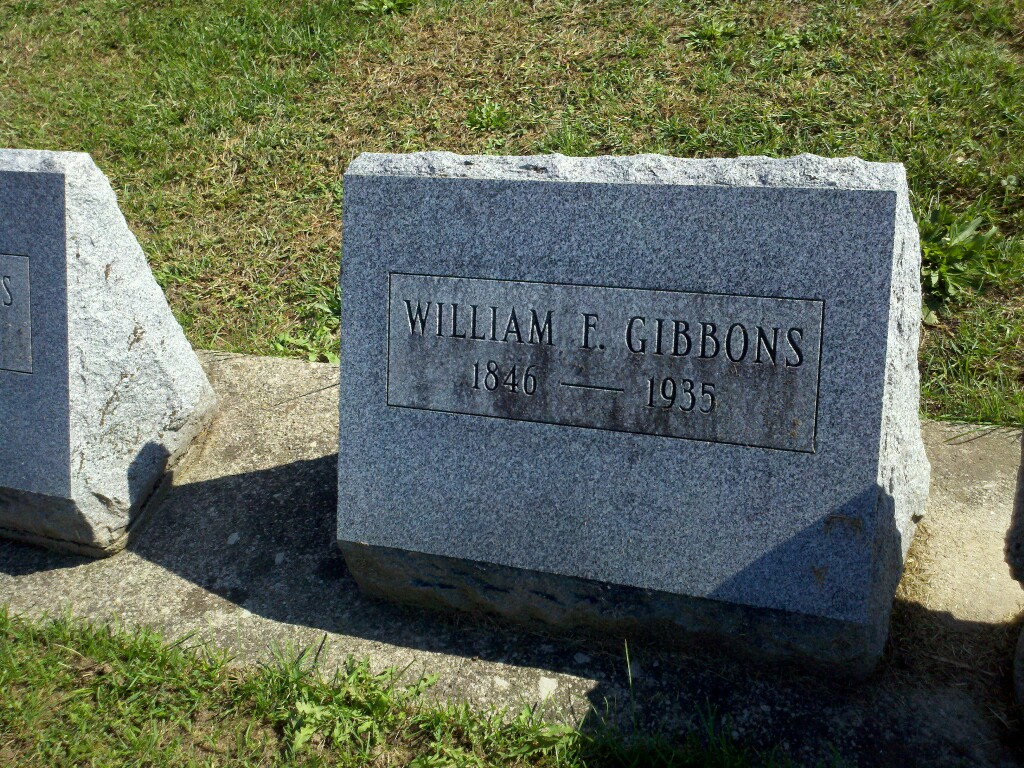slant: (289, 137, 965, 627)
